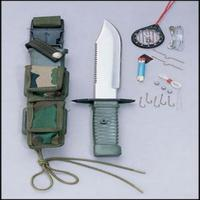knife: (83, 13, 131, 173)
